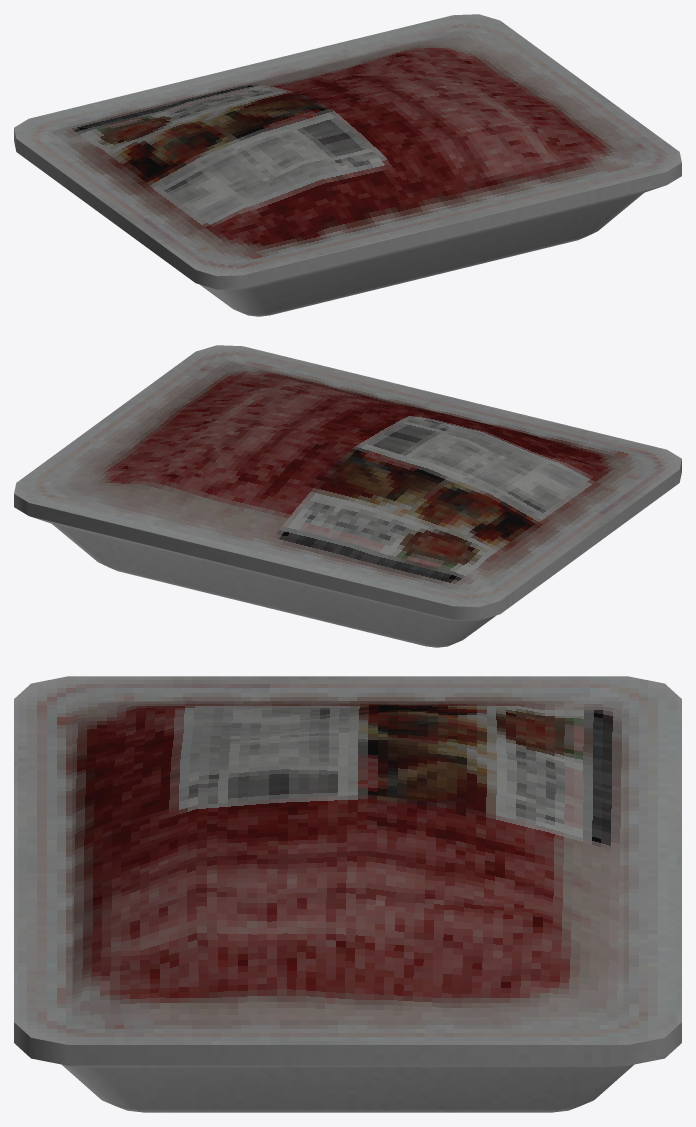
The model's file is meat_1_1.glb.
3 views of the same model, one above another, from view 1: azimuth 30°, elevation 25°; view 2: azimuth 150°, elevation 25°; view 3: azimuth 270°, elevation 25° (orthographic). The views are drawn at different scales.
Visible parts, largest first — view 1: meat_1_1; view 2: meat_1_1; view 3: meat_1_1.
Boxes of the visible parts, x1,y1,x2,y2 form: meat_1_1: (14, 14, 681, 316); meat_1_1: (14, 345, 681, 647); meat_1_1: (14, 676, 681, 1112).
Size of the model in its own units: 0.342 by 0.0775 by 0.2619.
1 material, 1 textured.
